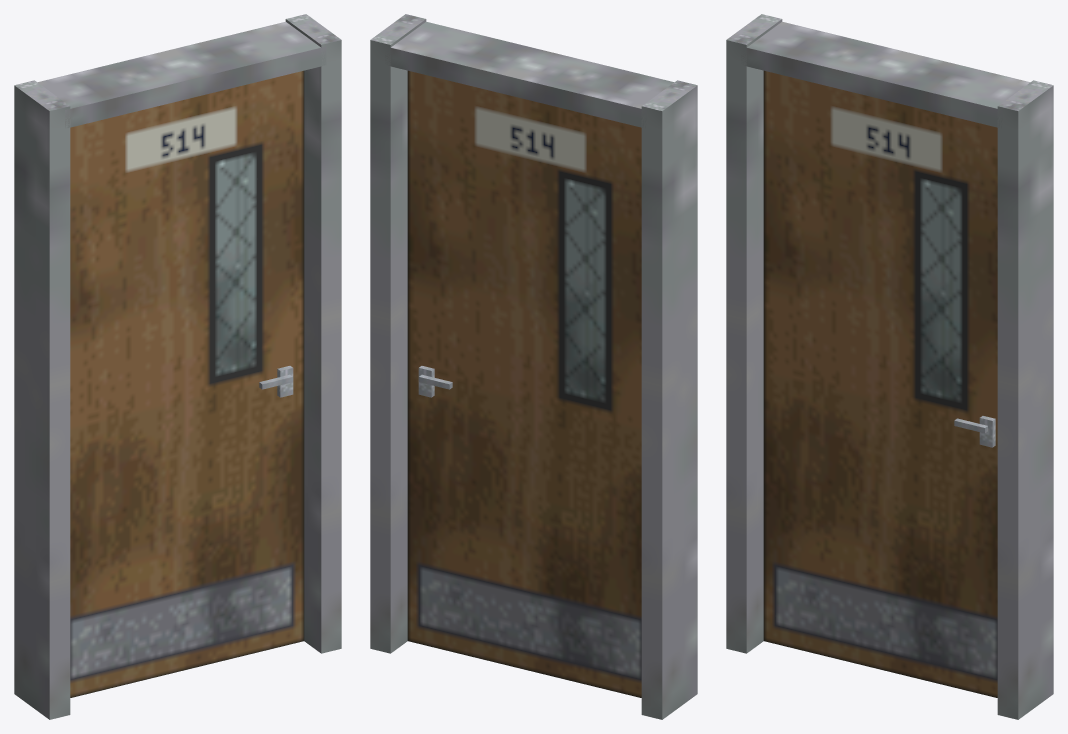
File: door_office.fbx
3 views of the same model, side by side, from view 1: azimuth 30°, elevation 25°; view 2: azimuth 150°, elevation 25°; view 3: azimuth 330°, elevation 25° (orthographic).
Parts seen in each view (by area): view 1: door_office_leaf, door_office, door_office_casing_r, door_office_casing_top; view 2: door_office_leaf, door_office, door_office_casing_r, door_office_casing_top; view 3: door_office_leaf, door_office_casing_r, door_office, door_office_casing_top.
Boxes of the visible parts, x1,y1,x2,y2 form: door_office_leaf: [70, 70, 304, 697]; door_office: [14, 80, 70, 719]; door_office_casing_r: [285, 14, 341, 653]; door_office_casing_top: [38, 21, 326, 128]; door_office_leaf: [407, 70, 641, 697]; door_office: [641, 80, 697, 719]; door_office_casing_r: [370, 14, 426, 653]; door_office_casing_top: [385, 21, 673, 128]; door_office_leaf: [763, 70, 997, 697]; door_office_casing_r: [997, 80, 1053, 719]; door_office: [726, 14, 782, 653]; door_office_casing_top: [741, 21, 1029, 128].
Size of the model in its own units: 1.14 by 2.27 by 0.24.
